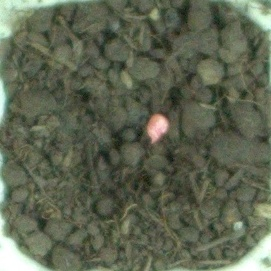chilli seed: (145, 111, 171, 147)
